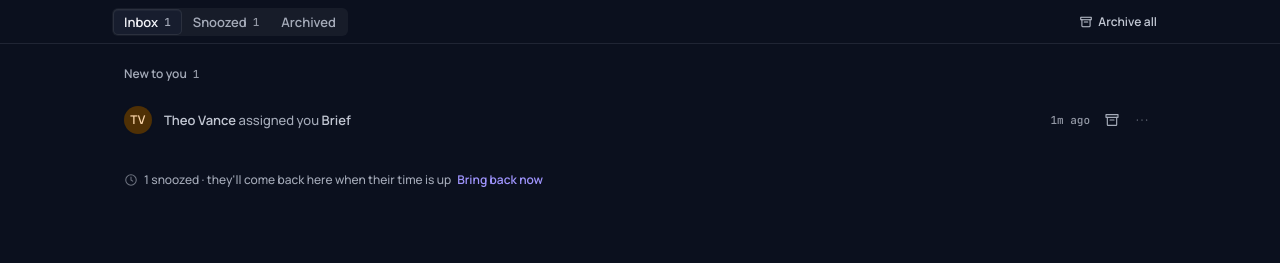
Test: InboxView — snooze › 'Bring back now' only unsnoozes this inbox's items, and brings them back at the top
This screenshot has width=1280, height=263.
Check: the text "1 snoozed · they'll come back here when their time is up" is shown, box x1=144 y1=172 x2=451 y2=188
Click the button "Bring back now" at (500,180), box x1=453 y1=170 x2=547 y2=190
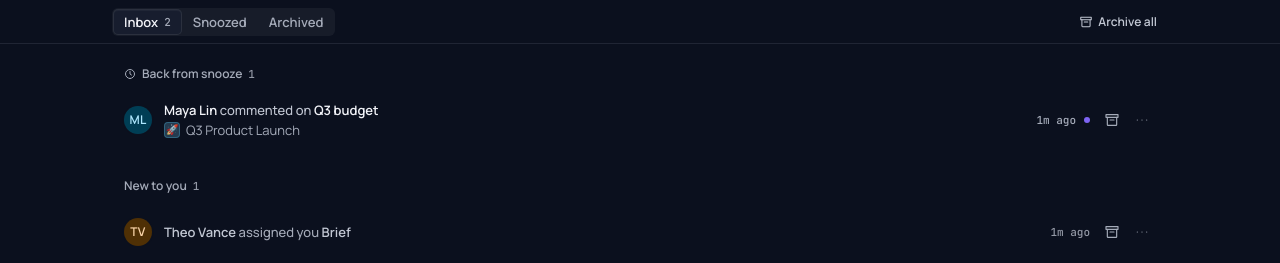
Check: the button "Maya Lin commented on Q3 budget" is shown, box x1=164 y1=100 x2=1024 y2=120
